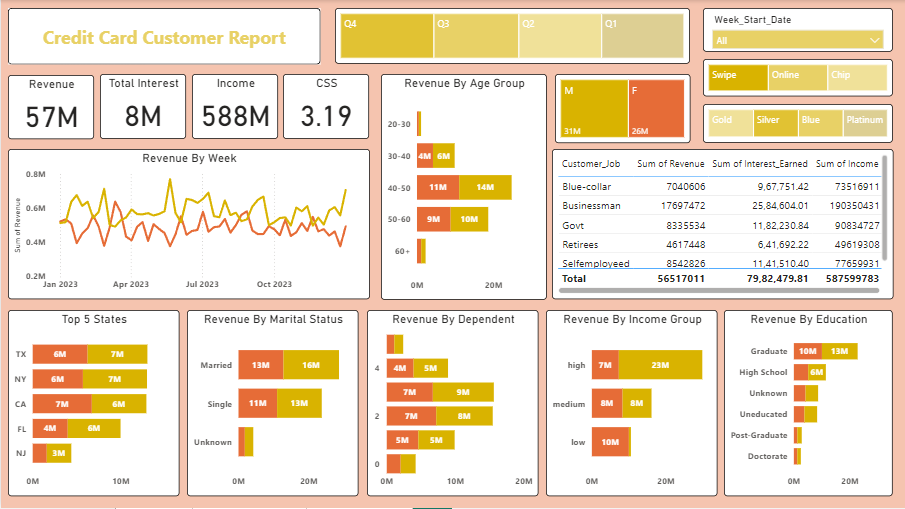

The page's visual inventory and layout, read from the dashboard file:
{"tool":"powerbi","page":{"name":"cc customer","canvas":[1280,720],"ordinal":2},"visuals":[{"type":"barChart","title":"Revenue By Income Group","fields":{"Y":["Sum(credit_card.Revenue)"],"Category":["customer.IncomeGroup"],"Series":["customer.Gender"]},"box":[771.8,439.2,243.4,263.5],"z":0},{"type":"tableEx","fields":{"Values":["customer.Customer_Job","Sum(credit_card.Revenue)","Sum(credit_card.Interest_Earned)","Sum(customer.Income)"]},"box":[780.5,211.7,483.8,213.1],"z":1000},{"type":"card","title":"Revenue","fields":{"Values":["Sum(credit_card.Revenue)"]},"box":[10,105.7,122,91.4],"z":2000},{"type":"card","title":" Total Interest","fields":{"Values":["Sum(credit_card.Interest_Earned)"]},"box":[140,105.1,122.4,92.2],"z":3000},{"type":"card","title":"Income","fields":{"Values":["Sum(customer.Income)"]},"box":[271,105.1,122.4,92.2],"z":4000},{"type":"card","title":"CSS","fields":{"Values":["Avg(customer.Cust_Satisfaction_Score)"]},"box":[400,105.1,122.4,92.2],"z":5000},{"type":"slicer","fields":{"Values":["credit_card.Week_Start_Date"]},"box":[995,11.5,269.3,62],"z":6000},{"type":"treemap","fields":{"Group":["credit_card.Qtr"],"Values":["Avg(customer.Client_Num)"]},"box":[473.8,11.5,502.6,79.2],"z":7000},{"type":"treemap","fields":{"Values":["Avg(customer.Client_Num)"],"Group":["credit_card.Use Chip"]},"box":[995,84,269.3,53.3],"z":8000},{"type":"treemap","fields":{"Values":["Avg(customer.Client_Num)"],"Group":["credit_card.Card_Category"]},"box":[995,147,269.3,54.7],"z":9000},{"type":"shape","box":[10,11.4,442.9,80],"z":10000},{"type":"lineChart","title":"Revenue By Week","fields":{"Y":["Sum(credit_card.Revenue)"],"Series":["customer.Gender"],"Category":["credit_card.Week_Start_Date.Variation.Date Hierarchy.Year","credit_card.Week_Start_Date.Variation.Date Hierarchy.Month","credit_card.Week_Start_Date.Variation.Date Hierarchy.Day"]},"box":[10.1,211.7,512.6,213.1],"z":11000},{"type":"treemap","fields":{"Group":["customer.Gender"],"Values":["Sum(credit_card.Revenue)"]},"box":[784.8,105.1,191.5,97.9],"z":12000},{"type":"barChart","title":"Revenue  By Age Group","fields":{"Y":["Sum(credit_card.Revenue)"],"Series":["customer.Gender"],"Category":["customer.AgeGroup"]},"box":[538.6,105.1,234.7,319.7],"z":13000},{"type":"barChart","title":"Revenue By Dependent ","fields":{"Y":["Sum(credit_card.Revenue)"],"Series":["customer.Gender"],"Category":["customer.Dependent_Count"]},"box":[518.4,439.2,243.4,263.5],"z":14000},{"type":"barChart","title":"Revenue By Education","fields":{"Y":["Sum(credit_card.Revenue)"],"Series":["customer.Gender"],"Category":["customer.Education_Level"]},"box":[1025.3,439.2,239,263.5],"z":15000},{"type":"barChart","title":"Top 5 States","fields":{"Y":["Sum(credit_card.Revenue)"],"Series":["customer.Gender"],"Category":["customer.state_cd"]},"box":[10.1,439.2,243.4,263.5],"z":16000},{"type":"barChart","title":"Revenue By Marital Status","fields":{"Y":["Sum(credit_card.Revenue)"],"Series":["customer.Gender"],"Category":["customer.Marital_Status"]},"box":[263.5,439.2,243.4,263.5],"z":17000}]}

Visuals, with their boxes in screenshot pixels (x1, y1, x2, y2), scaled from the page's 1280x720 canvas onto the 905x509 screenshot:
"Revenue By Income Group" barChart: <bbox>546, 310, 718, 497</bbox>
tableEx - customer.Customer_Job x Sum(credit_card.Revenue): <bbox>552, 150, 894, 300</bbox>
"Revenue" card: <bbox>7, 75, 93, 139</bbox>
" Total Interest" card: <bbox>99, 74, 186, 139</bbox>
"Income" card: <bbox>192, 74, 278, 139</bbox>
"CSS" card: <bbox>283, 74, 369, 139</bbox>
slicer - credit_card.Week_Start_Date: <bbox>703, 8, 894, 52</bbox>
treemap - credit_card.Qtr x Avg(customer.Client_Num): <bbox>335, 8, 690, 64</bbox>
treemap - Avg(customer.Client_Num) x credit_card.Use Chip: <bbox>703, 59, 894, 97</bbox>
treemap - Avg(customer.Client_Num) x credit_card.Card_Category: <bbox>703, 104, 894, 143</bbox>
shape: <bbox>7, 8, 320, 65</bbox>
"Revenue By Week" lineChart: <bbox>7, 150, 370, 300</bbox>
treemap - customer.Gender x Sum(credit_card.Revenue): <bbox>555, 74, 690, 144</bbox>
"Revenue  By Age Group" barChart: <bbox>381, 74, 547, 300</bbox>
"Revenue By Dependent " barChart: <bbox>367, 310, 539, 497</bbox>
"Revenue By Education" barChart: <bbox>725, 310, 894, 497</bbox>
"Top 5 States" barChart: <bbox>7, 310, 179, 497</bbox>
"Revenue By Marital Status" barChart: <bbox>186, 310, 358, 497</bbox>
